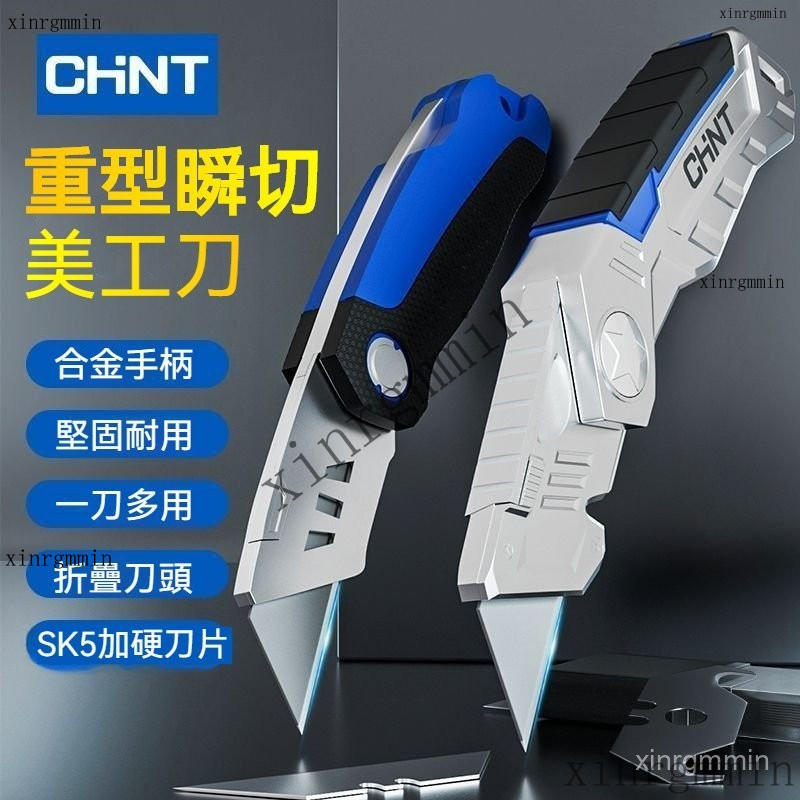cutter: (453, 24, 800, 756), (232, 69, 552, 738)
